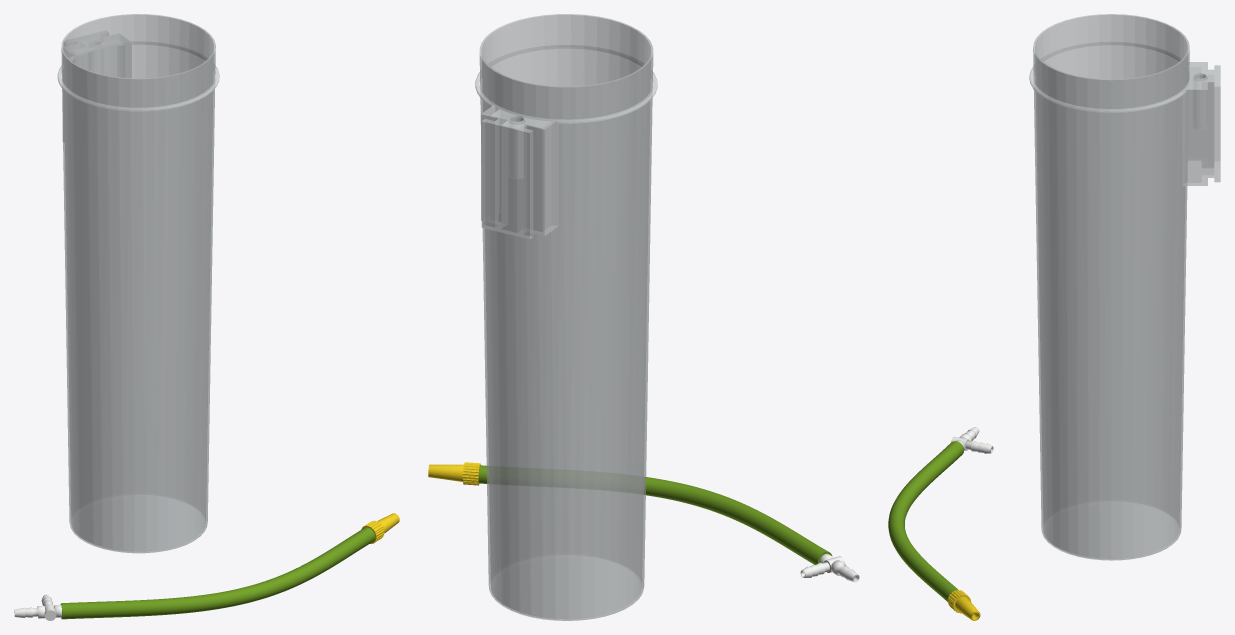
File: p05-3l-set.glb
3 views of the same model, side by side, from view 1: azimuth 30°, elevation 25°; view 2: azimuth 150°, elevation 25°; view 3: azimuth 270°, elevation 25° (orthographic). The views are drawn at different scales.
Visible parts, largest first — view 1: vessel, silicone-hose-13x7, collar-mount; view 2: vessel, collar-mount, silicone-hose-13x7; view 3: vessel, collar-mount, silicone-hose-13x7.
Boxes of the visible parts, bbox=[...] form: vessel: bbox=[61, 14, 215, 553]; silicone-hose-13x7: bbox=[61, 527, 374, 619]; collar-mount: bbox=[57, 31, 219, 142]; vessel: bbox=[479, 14, 653, 620]; collar-mount: bbox=[475, 45, 657, 239]; silicone-hose-13x7: bbox=[478, 465, 828, 564]; vessel: bbox=[1033, 14, 1189, 560]; collar-mount: bbox=[1029, 42, 1220, 185]; silicone-hose-13x7: bbox=[888, 441, 964, 601].
Size of the model in its own units: 352 by 420 by 261.
